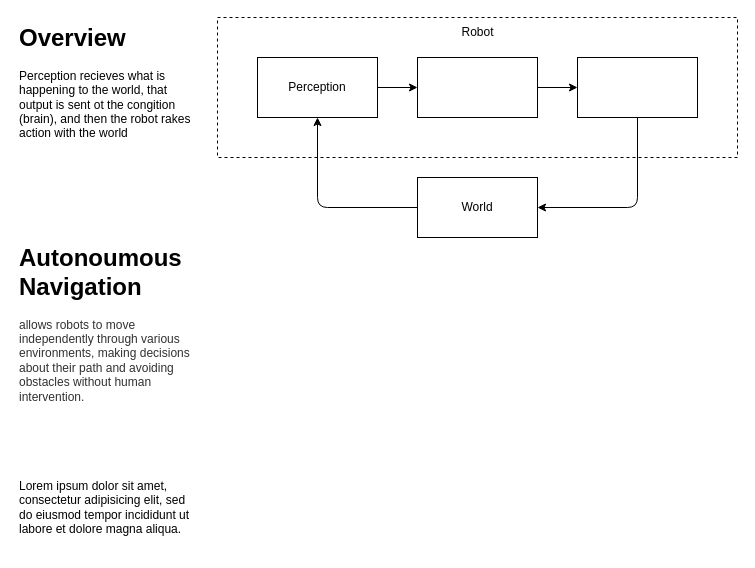
Some shapes in this 755 by 568 pixel diagram are drawn without their labels. Here are the shapes that lost their labels. From the top down, the box of each, then its label:
(416, 56, 538, 118): Cognition
(576, 56, 698, 118): Action
